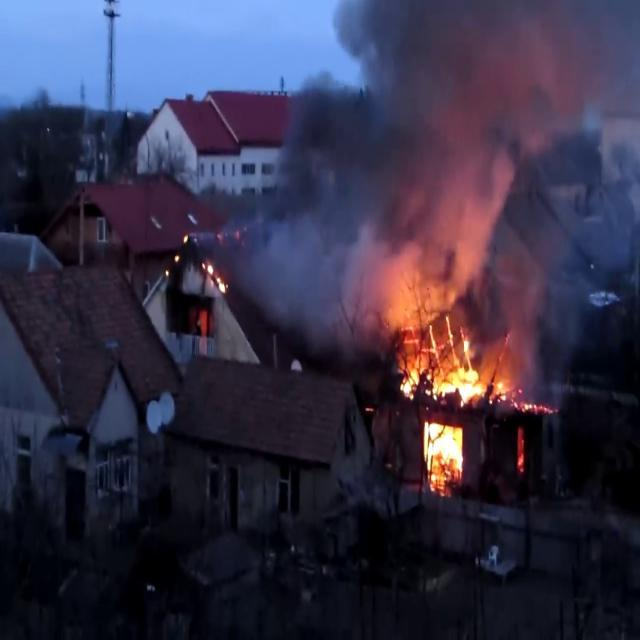Fire: (401, 318, 494, 482), (420, 416, 466, 486), (198, 253, 229, 301)
Smoke: (236, 0, 632, 324)
